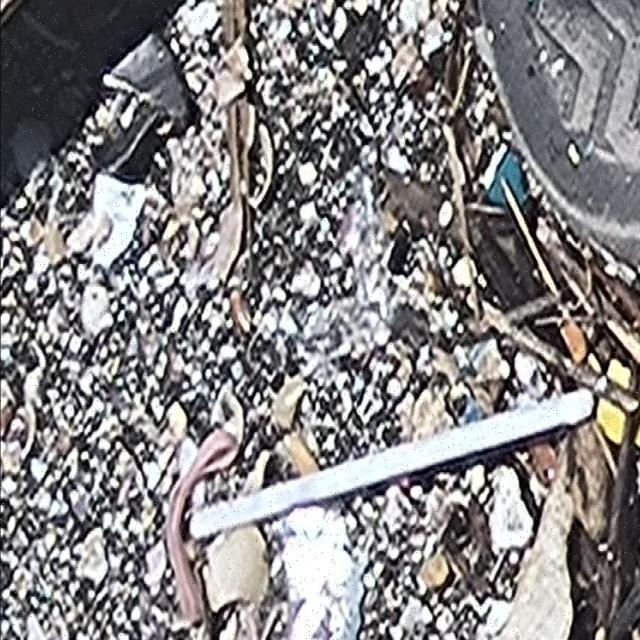plastic_waste: (192, 387, 596, 538)
